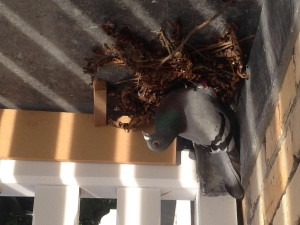pigeon: (138, 77, 247, 201)
